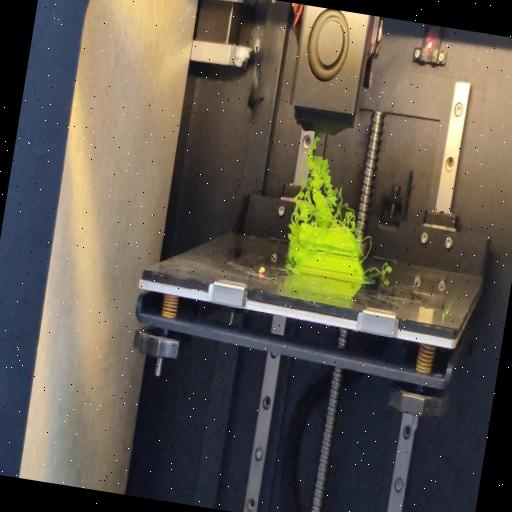spaghetti: (290, 133, 372, 231), (282, 220, 303, 272), (358, 233, 374, 266), (369, 260, 394, 278)
